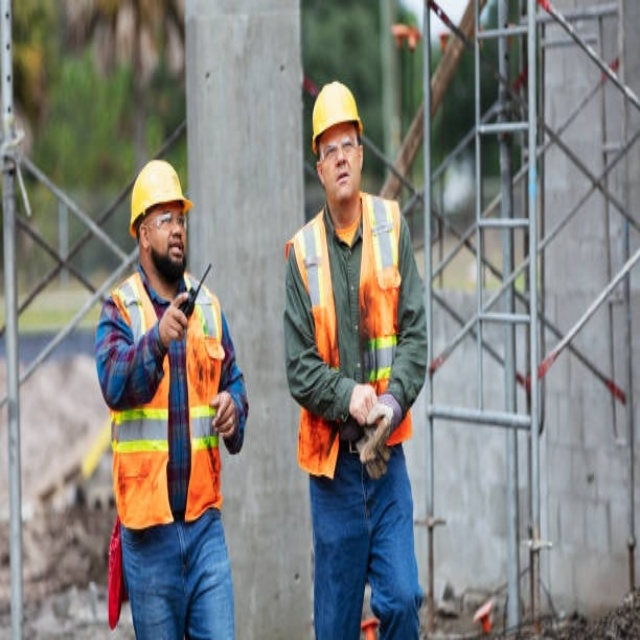Gafas: (318, 136, 360, 164), (143, 211, 188, 233)
Guantes: (357, 391, 405, 467)
Sin_guantes: (160, 289, 190, 345), (348, 378, 378, 427), (208, 395, 235, 435)
Sin_mascara: (330, 164, 356, 193), (164, 235, 187, 265)
